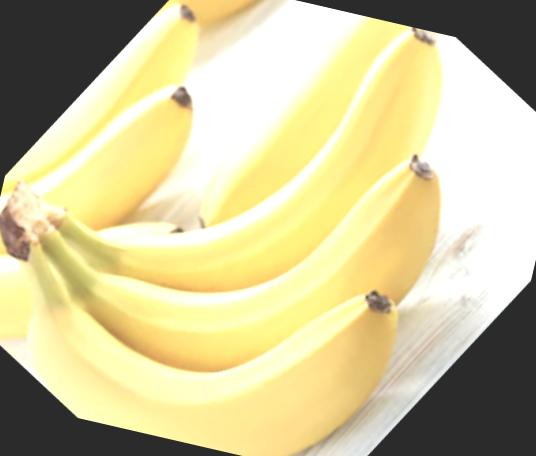Banana Ripe: (0, 0, 516, 456)
